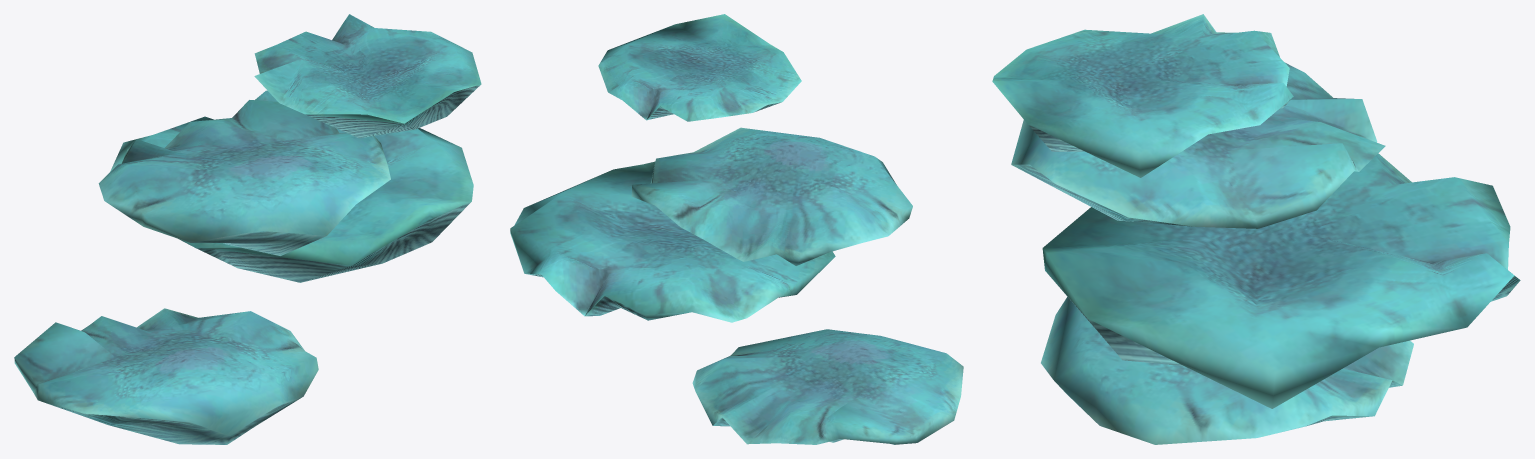
The model's file is mushroom.glb.
3 views of the same model, side by side, from view 1: azimuth 30°, elevation 25°; view 2: azimuth 150°, elevation 25°; view 3: azimuth 270°, elevation 25° (orthographic). The views are drawn at different scales.
Visible parts, largest first — view 1: prop_09e0b6b0; view 2: prop_09e0b6b0; view 3: prop_09e0b6b0.
Part boxes in pixels (<box>): prop_09e0b6b0: <box>14,14,481,444</box>; prop_09e0b6b0: <box>510,14,963,444</box>; prop_09e0b6b0: <box>992,14,1520,444</box>.
Bounding box in the file's own units: 0.8504 × 0.621 × 0.6439.
Materials: 1 (1 with a texture image).
